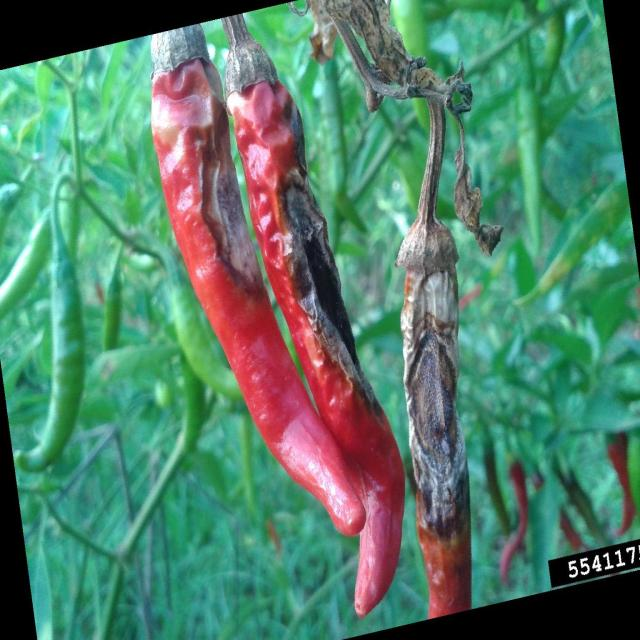Moko: (243, 154, 399, 452), (393, 245, 478, 578), (187, 143, 280, 310)
